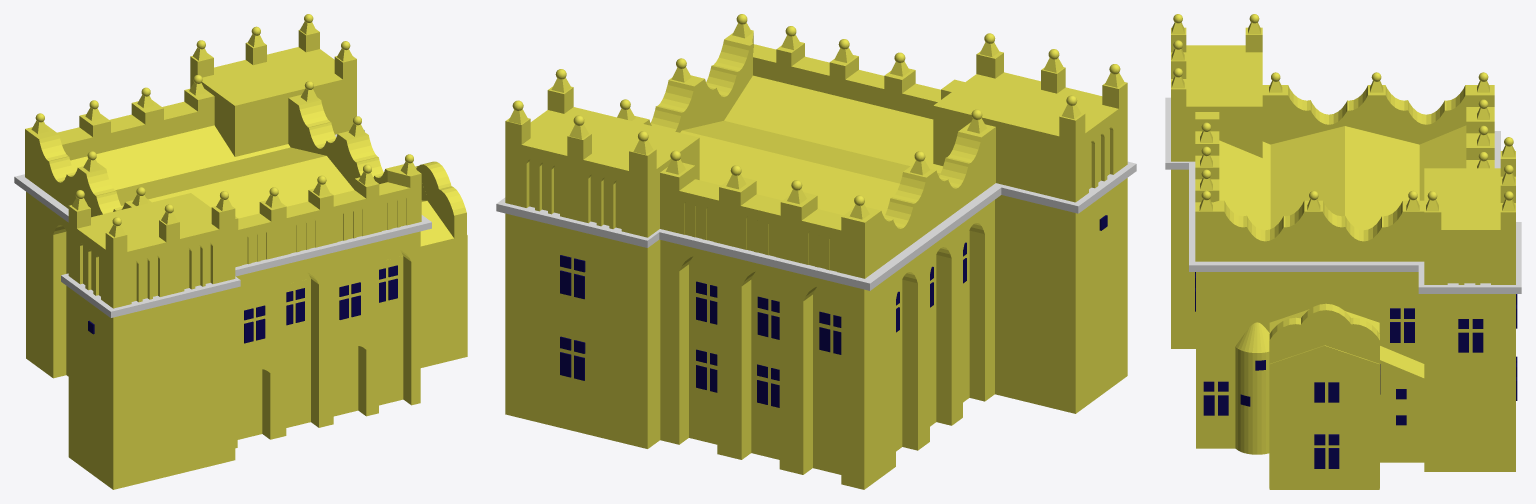
The model's file is zamek.glb.
3 views of the same model, side by side, from view 1: azimuth 30°, elevation 25°; view 2: azimuth 150°, elevation 25°; view 3: azimuth 270°, elevation 25° (orthographic). The views are drawn at different scales.
Visible parts, largest first — view 1: Zamek, wieża1.001, Zamek_góra, wieża1, wieża_mała, Krusz1.006, Zamek_środek.001, Zamek_środek.003, okno.010, okno.011, okno.012, okno.013; view 2: Zamek, wieża1, wieża1.001, Zamek_góra, Zamek_środek.001, Zamek_środek.002, Zamek_środek.003, okno.003, okno.014, okno.001, okno.002, okno.019; view 3: Zamek, wieża1, Zamek_góra, wieża_mała, wieża1.001, wieża_mała.001, Krusz1.006, wieża_okrągła, Zamek_środek.001, Zamek_środek.002, okno.015, okno.006 (+3 smaller).
Part boxes in pixels (<box>): Zamek: <box>26,125,420,448</box>; wieża1.001: <box>68,193,235,489</box>; Zamek_góra: <box>25,88,421,267</box>; wieża1: <box>190,29,356,156</box>; wieża_mała: <box>420,200,467,367</box>; Krusz1.006: <box>415,161,466,359</box>; Zamek_środek.001: <box>14,174,431,276</box>; Zamek_środek.003: <box>61,273,240,317</box>; okno.010: <box>244,305,265,343</box>; okno.011: <box>339,282,360,319</box>; okno.012: <box>286,288,304,325</box>; okno.013: <box>379,265,397,302</box>; Zamek: <box>660,75,994,489</box>; wieża1: <box>505,86,699,448</box>; wieża1.001: <box>933,51,1127,413</box>; Zamek_góra: <box>632,30,995,278</box>; Zamek_środek.001: <box>657,183,1003,290</box>; Zamek_środek.002: <box>496,197,659,247</box>; Zamek_środek.003: <box>1001,161,1136,213</box>; okno.003: <box>560,255,585,299</box>; okno.014: <box>560,336,585,380</box>; okno.001: <box>757,296,779,339</box>; okno.002: <box>819,311,841,354</box>; okno.019: <box>757,364,779,407</box>; Zamek: <box>1196,125,1466,448</box>; wieża1: <box>1424,151,1515,471</box>; Zamek_góra: <box>1195,85,1494,261</box>; wieża_mała: <box>1269,309,1379,489</box>; wieża1.001: <box>1171,27,1262,348</box>; wieża_mała.001: <box>1380,346,1424,462</box>; Krusz1.006: <box>1269,303,1379,488</box>; wieża_okrągła: <box>1235,322,1269,454</box>; Zamek_środek.001: <box>1189,131,1500,271</box>; Zamek_środek.002: <box>1418,222,1521,293</box>; okno.015: <box>1314,434,1339,468</box>; okno.006: <box>1203,381,1228,415</box>.
Bounding box in the file's own units: 10.73 × 6.72 × 7.84.
